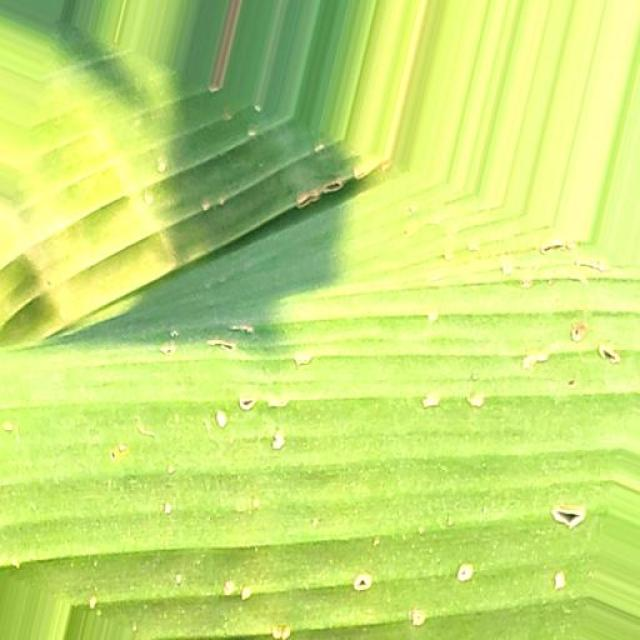Black_rot: (127, 97, 640, 640)
